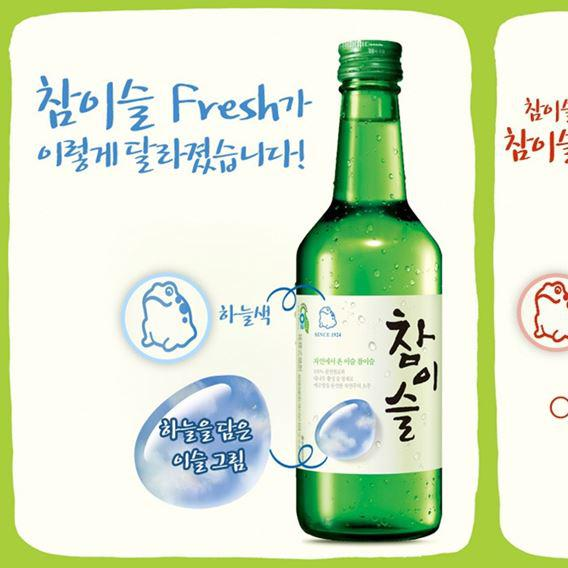soju: (291, 37, 445, 543)
